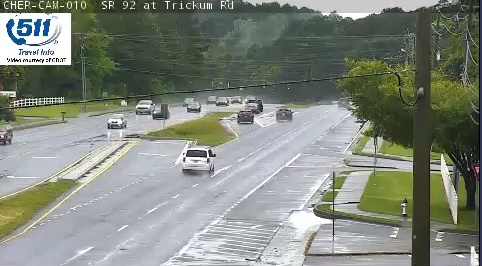car: (182, 147, 213, 171), (276, 108, 293, 121), (237, 111, 254, 124)
